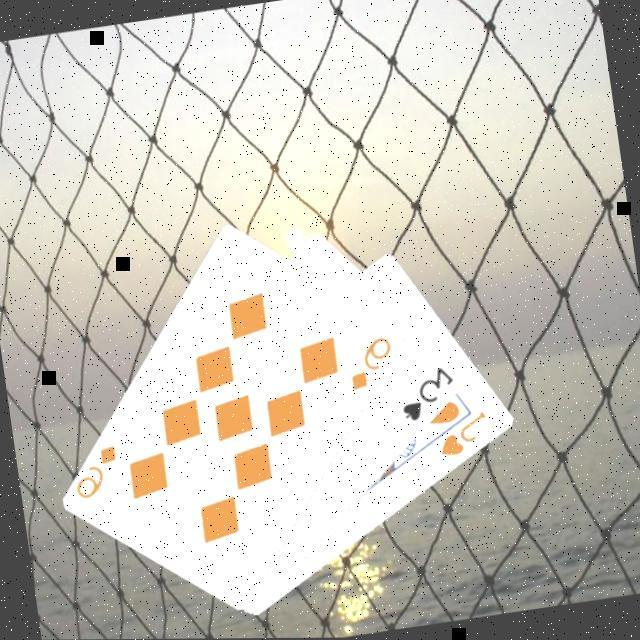3S: (395, 362, 464, 426)
9D: (343, 331, 402, 394), (70, 440, 128, 502)
JH: (435, 408, 497, 460)
